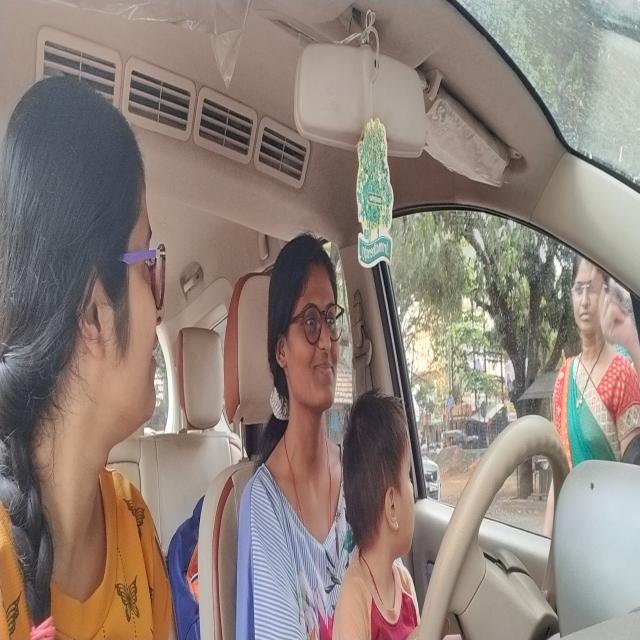child: (346, 400, 422, 560)
person: (34, 78, 164, 434), (270, 239, 343, 418)
